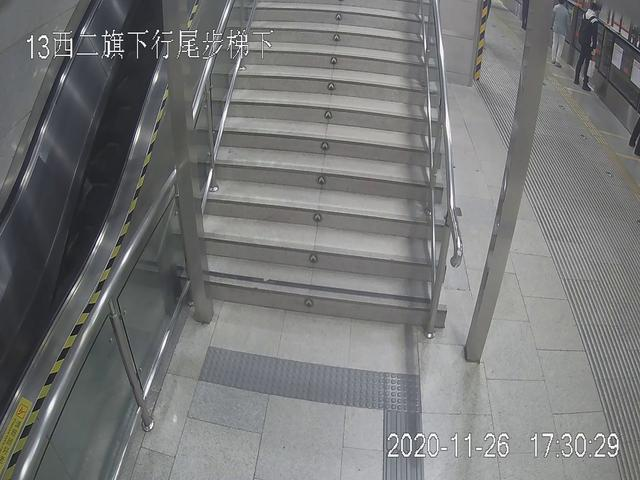person: (576, 2, 601, 94), (544, 1, 574, 68)
